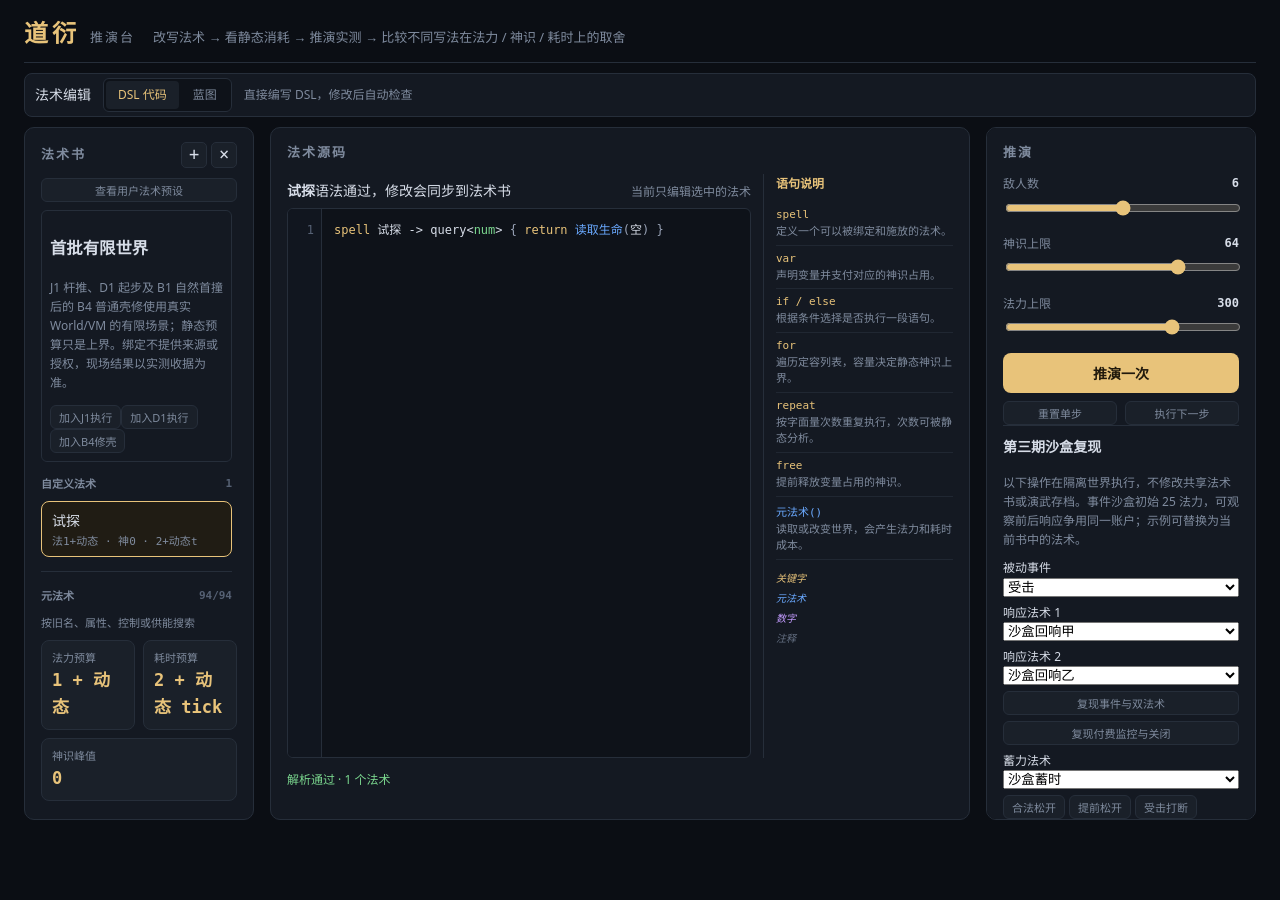
app rendering smoke test › shows a paid unavailable sense result in the lab sandbox
The width and height of the screenshot is (1280, 900).
Click the button "推演一次".
click(1121, 373)  # box left=1003, top=353, right=1239, bottom=393
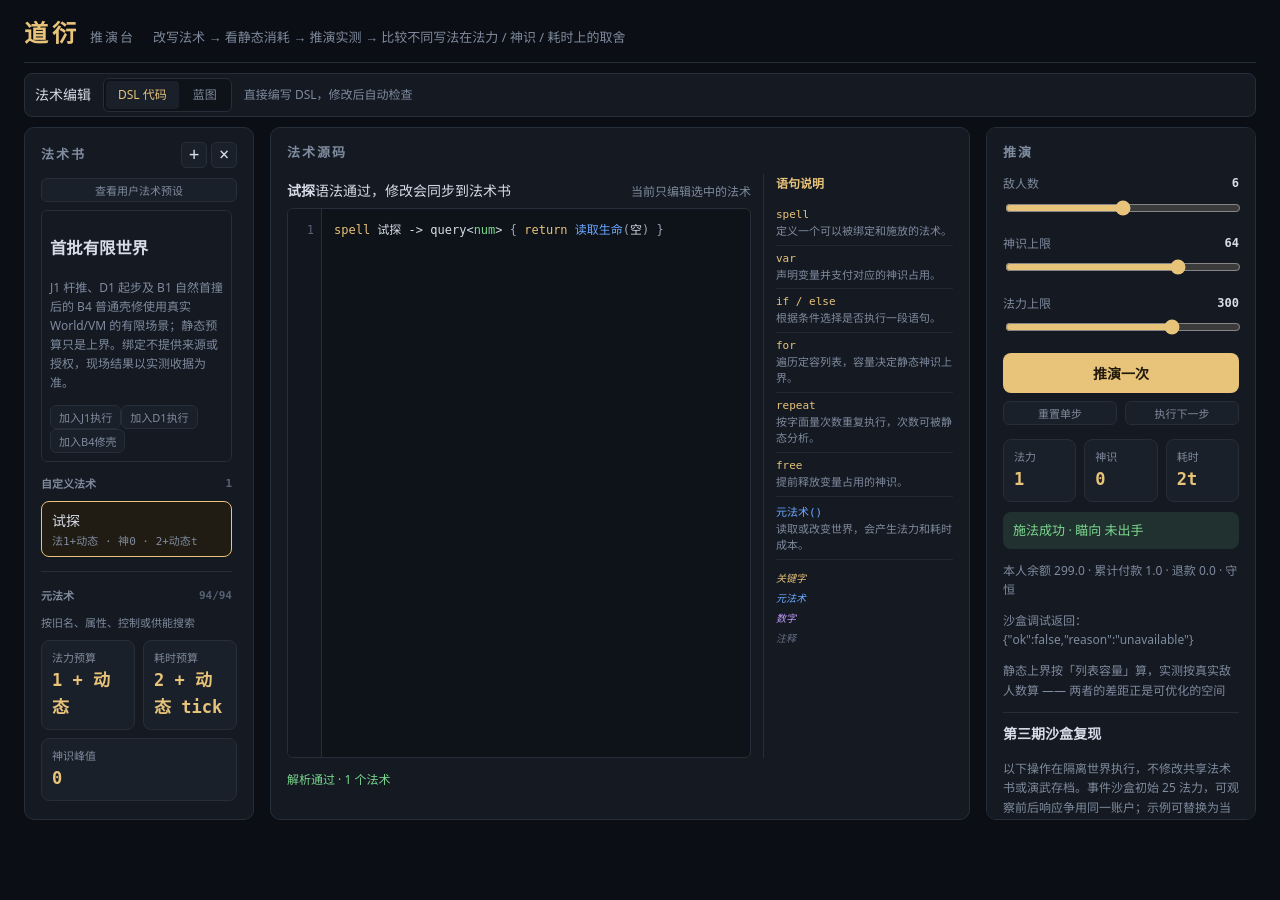
Now the text with test id "lab-return-value" shows "unavailable", box left=1003, top=631, right=1194, bottom=648
Now the element with class "result" shows "法力", box left=1014, top=449, right=1036, bottom=464
